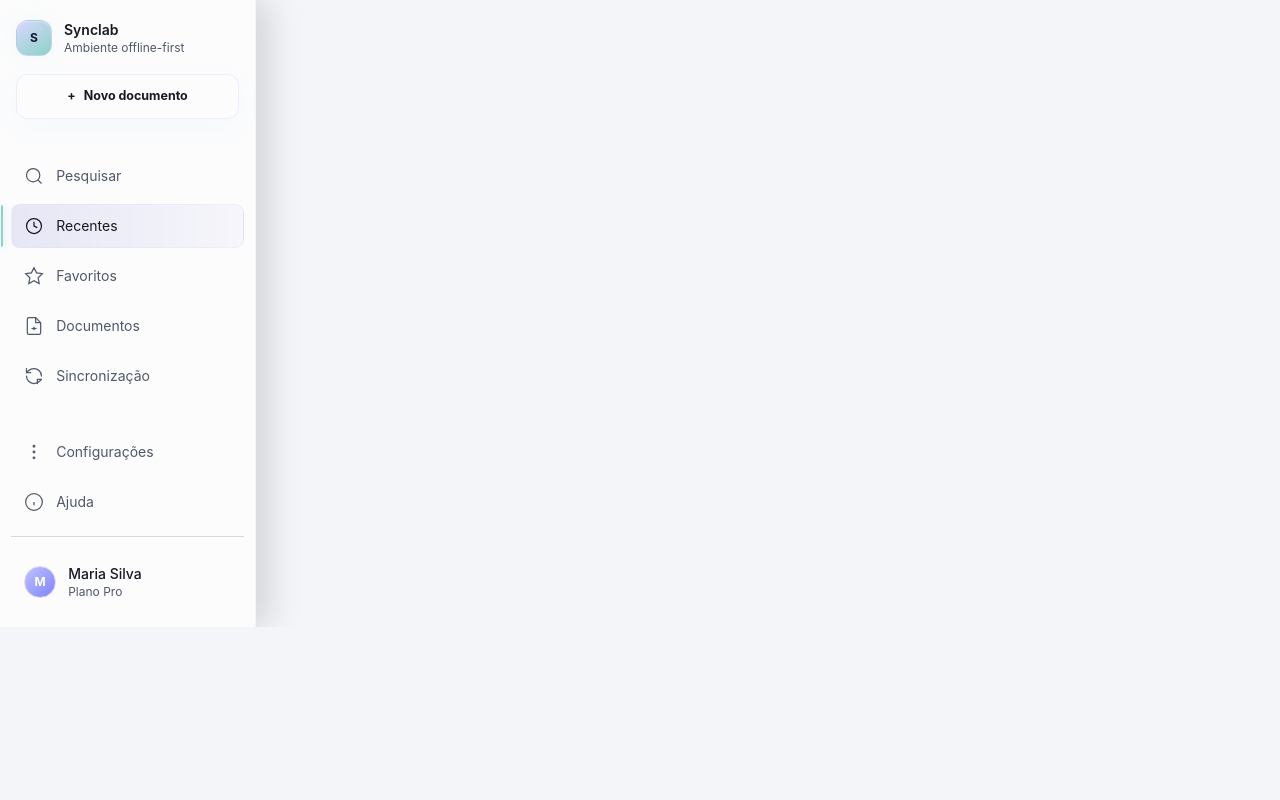
Test: menu da conta no ambiente autenticado › exibe dados do usuário, abre/fecha e fecha com clique externo e Escape
Expected: the text "Maria Silva" is shown, [68, 565, 142, 582]
Click the button "M Maria Silva Plano Pro" at (128, 582), box [11, 553, 244, 611]
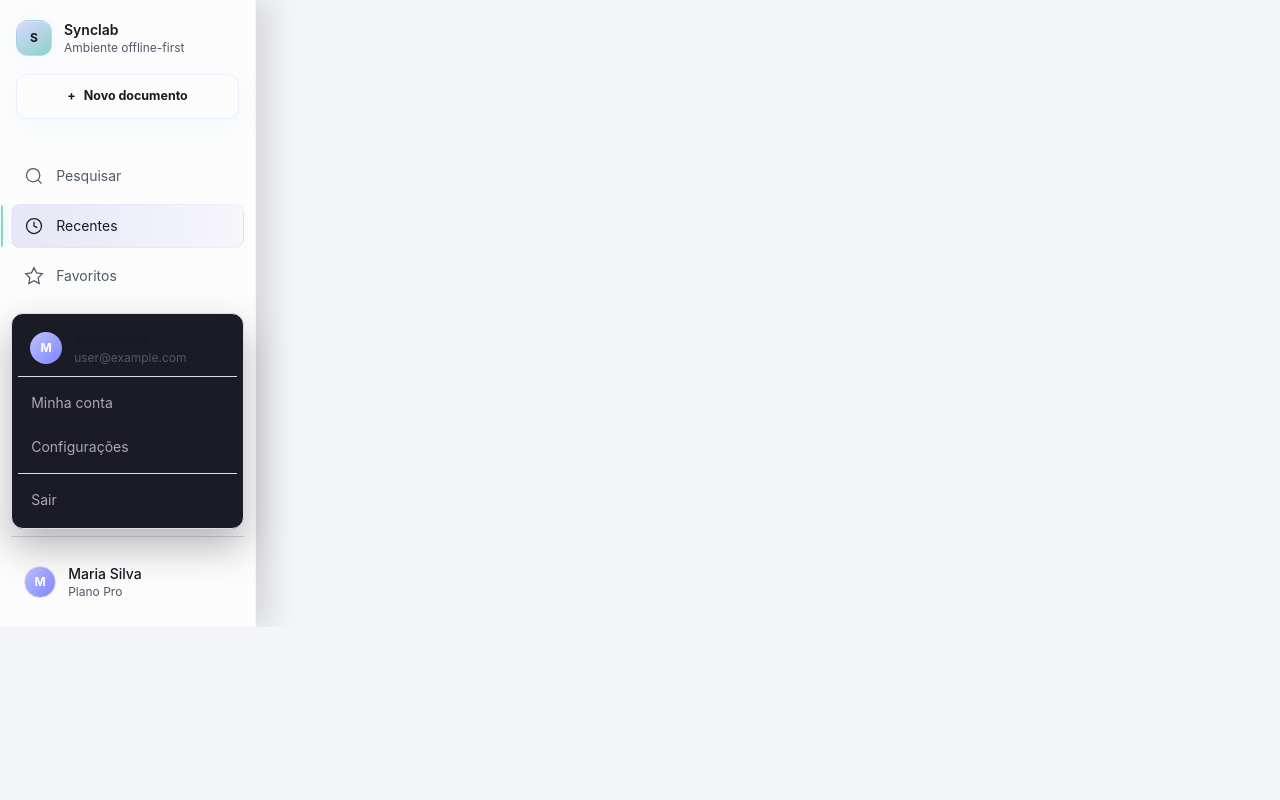
Expected: the menu is shown, [11, 313, 244, 529]
Expected: the text "user@example.com" is shown, [74, 350, 186, 366]
Press Escape
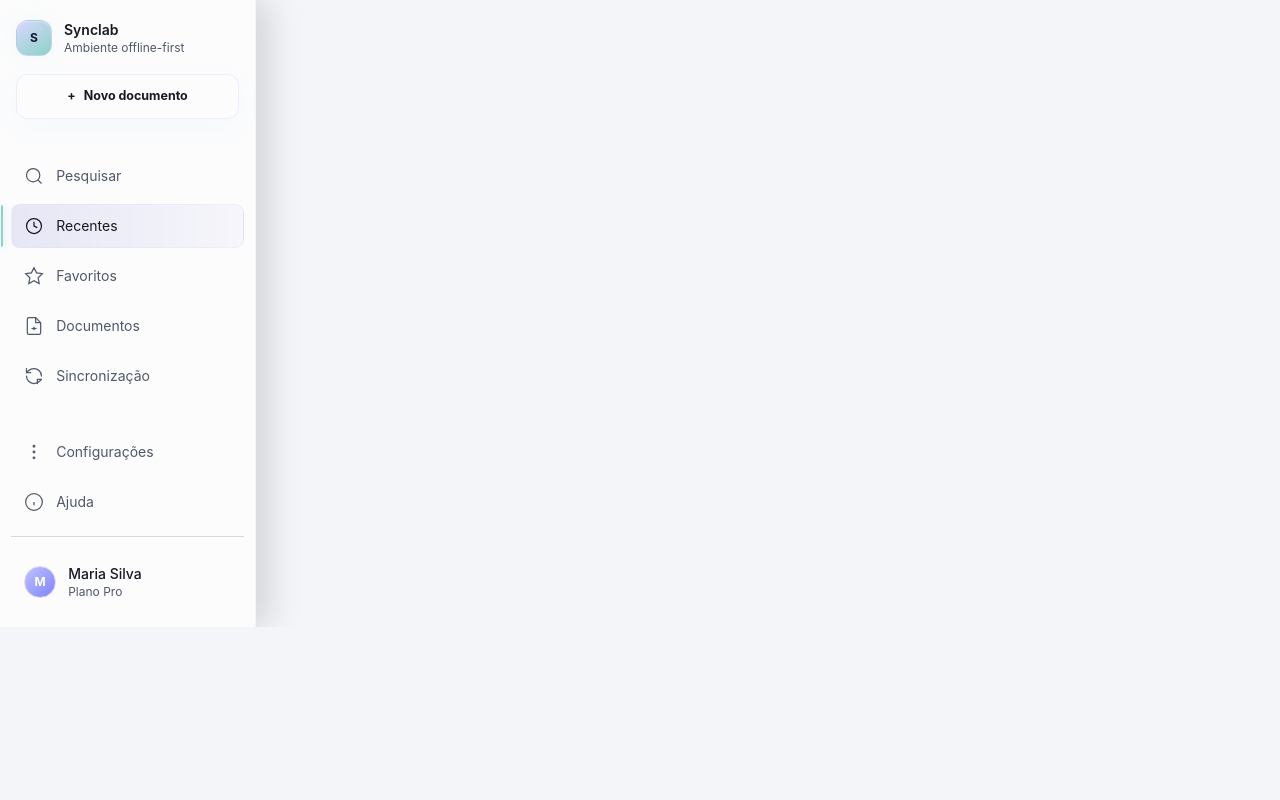
Expected: the menu is gone
Click the button "M Maria Silva Plano Pro" at (128, 582), box [11, 553, 244, 611]
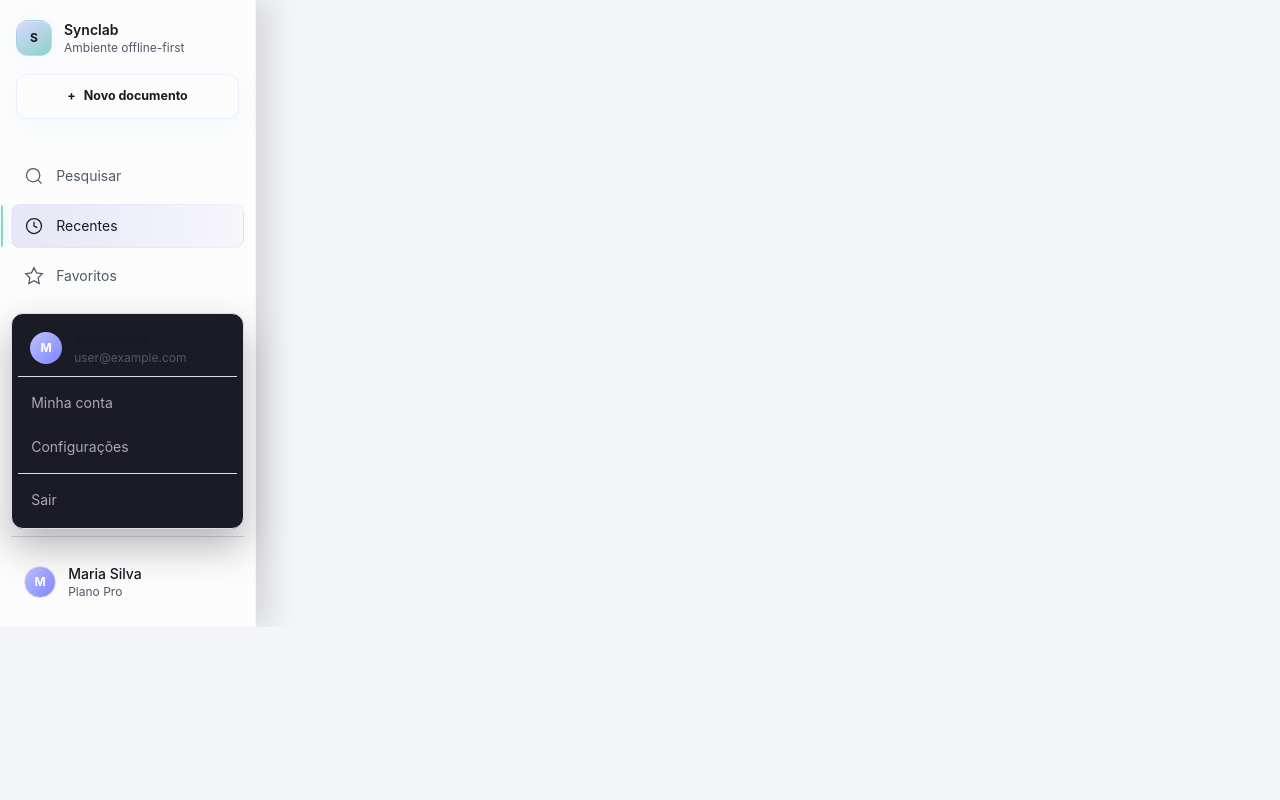
Click the element that starts with "Synclab" at (640, 314), box [0, 0, 1279, 627]
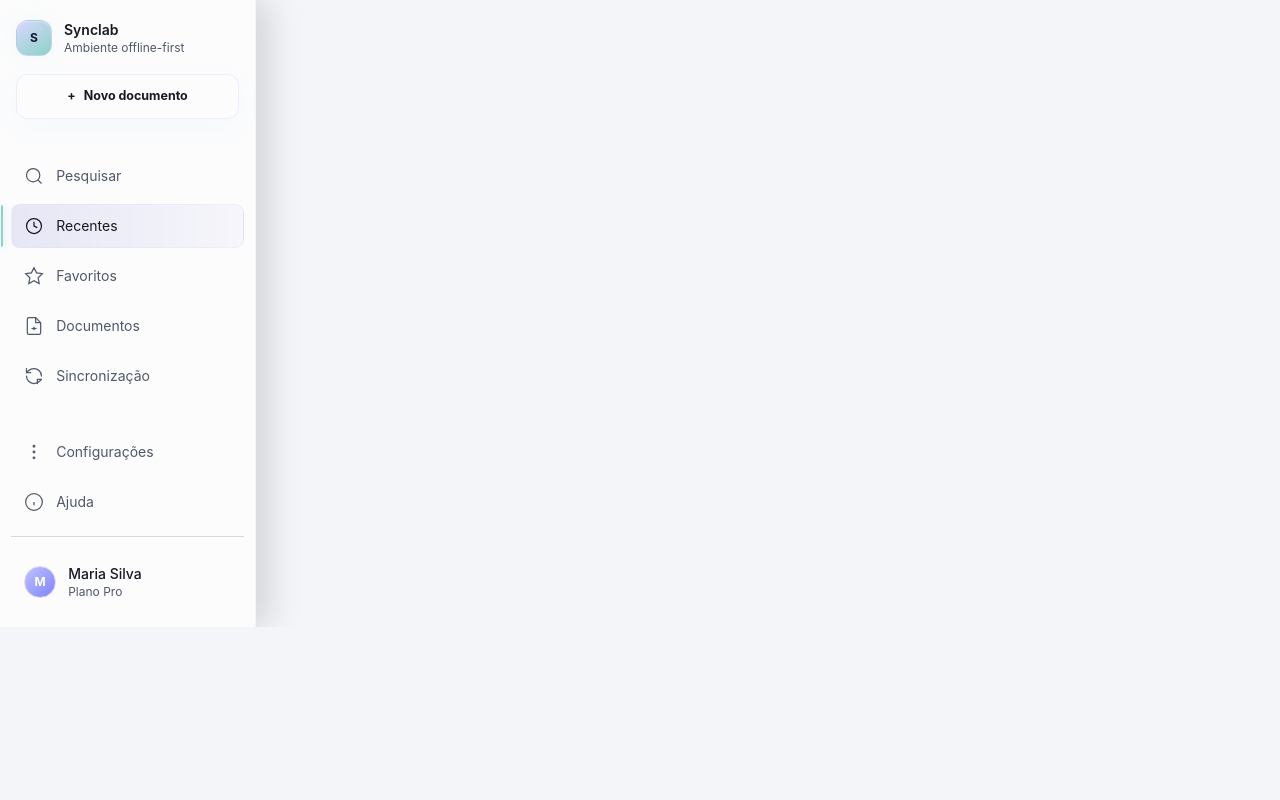
Expected: the menu is gone
